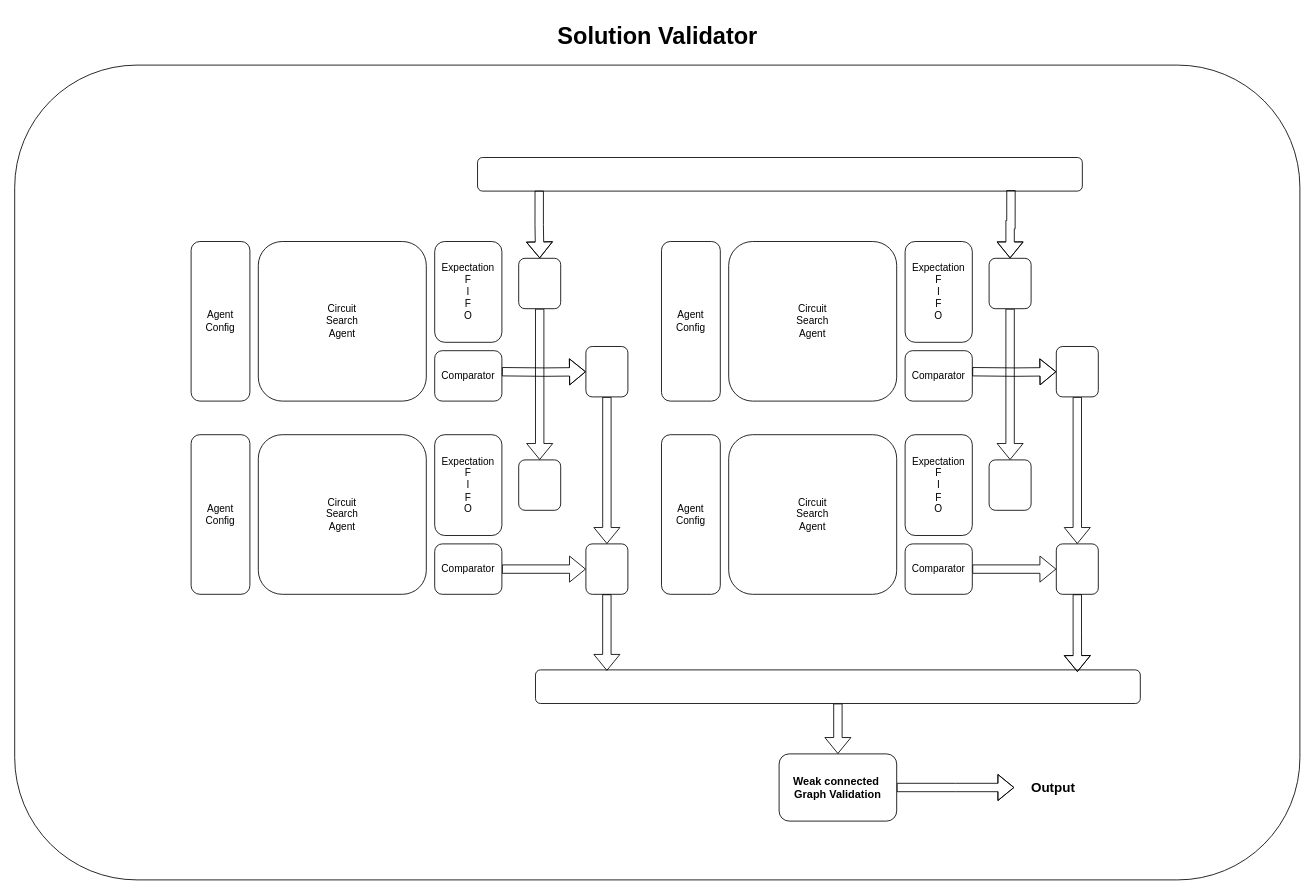
The diagram is 1315 pixels wide and 895 high, and some of its shapes have lost their labels. The box of each missing label's shape, as (x1, y1, x2, y2) in pixels:
Expectations: (477, 157, 1082, 191)
Solutions: (535, 669, 1140, 704)
